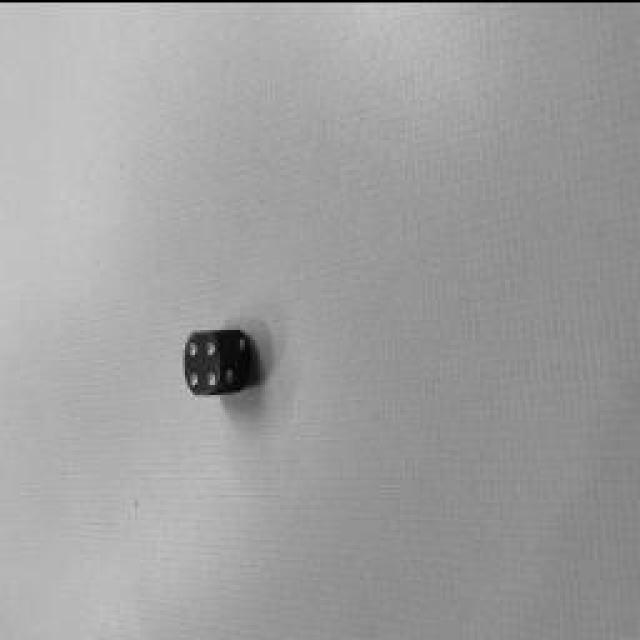dice_4: (184, 328, 221, 392)
